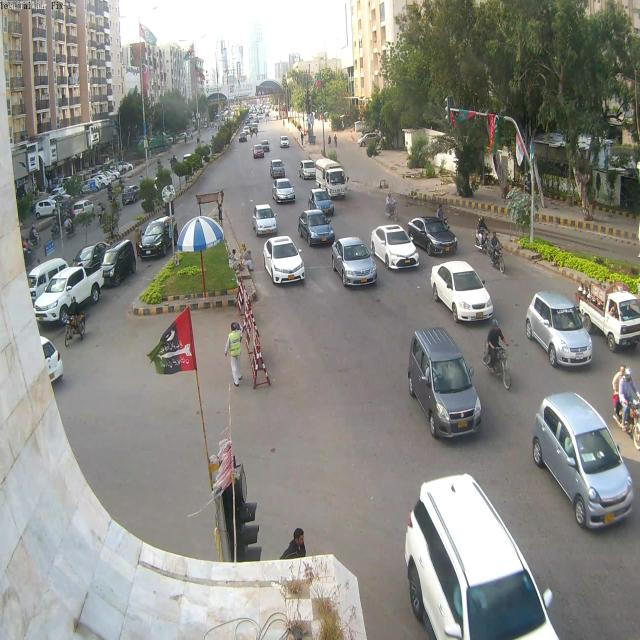car: (390, 458, 556, 640), (527, 388, 637, 528), (407, 328, 479, 450), (522, 296, 605, 376), (40, 265, 108, 330), (430, 256, 498, 316), (258, 233, 310, 290), (328, 235, 381, 290), (368, 222, 417, 272), (410, 210, 459, 260), (137, 210, 180, 262), (102, 228, 136, 292), (294, 208, 336, 242), (267, 175, 301, 203), (253, 205, 277, 235)
motorbike: (609, 357, 640, 455), (484, 322, 515, 392), (65, 296, 84, 346), (471, 220, 491, 257), (383, 192, 399, 224), (490, 230, 501, 269), (442, 205, 452, 230)
truck: (315, 160, 352, 194)
